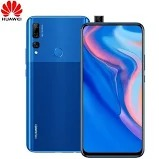huawei: (25, 14, 88, 152)
